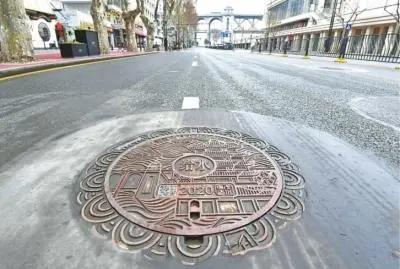wellcover: (98, 119, 287, 245)
